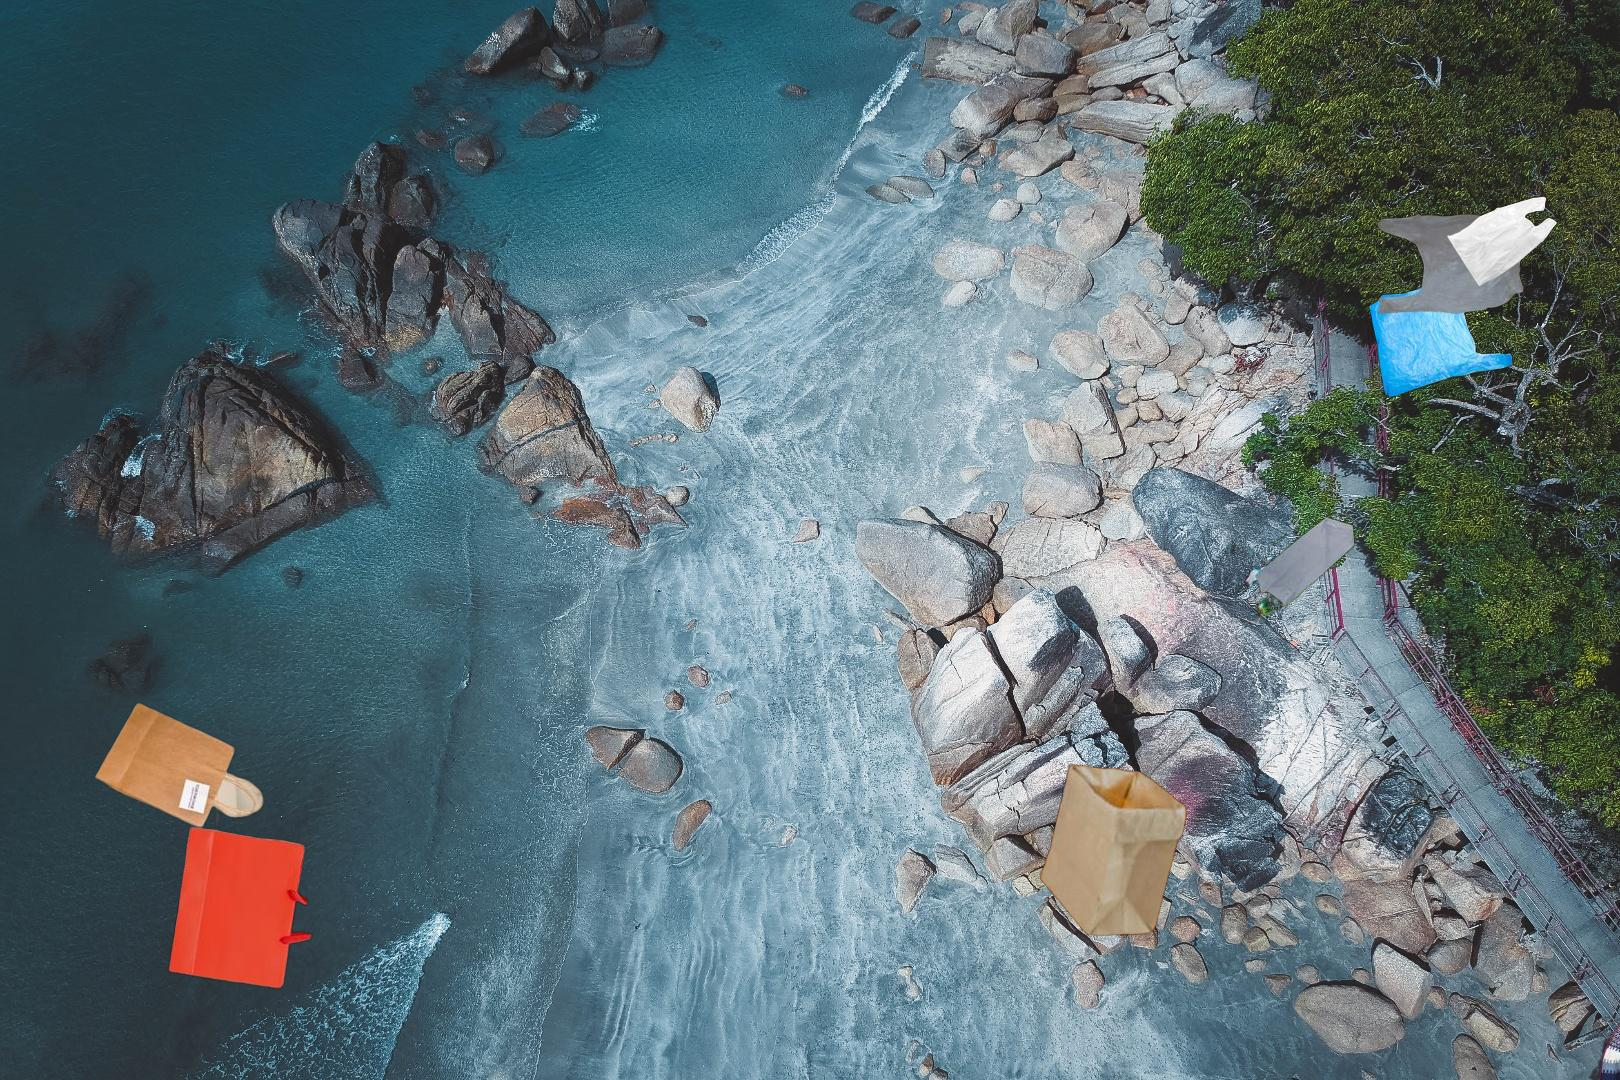clothes: (1582, 927, 1620, 1080)
paper-bag: (93, 700, 315, 992), (1037, 762, 1189, 937)
plastic-bag: (1367, 193, 1558, 399), (1221, 514, 1356, 636)
